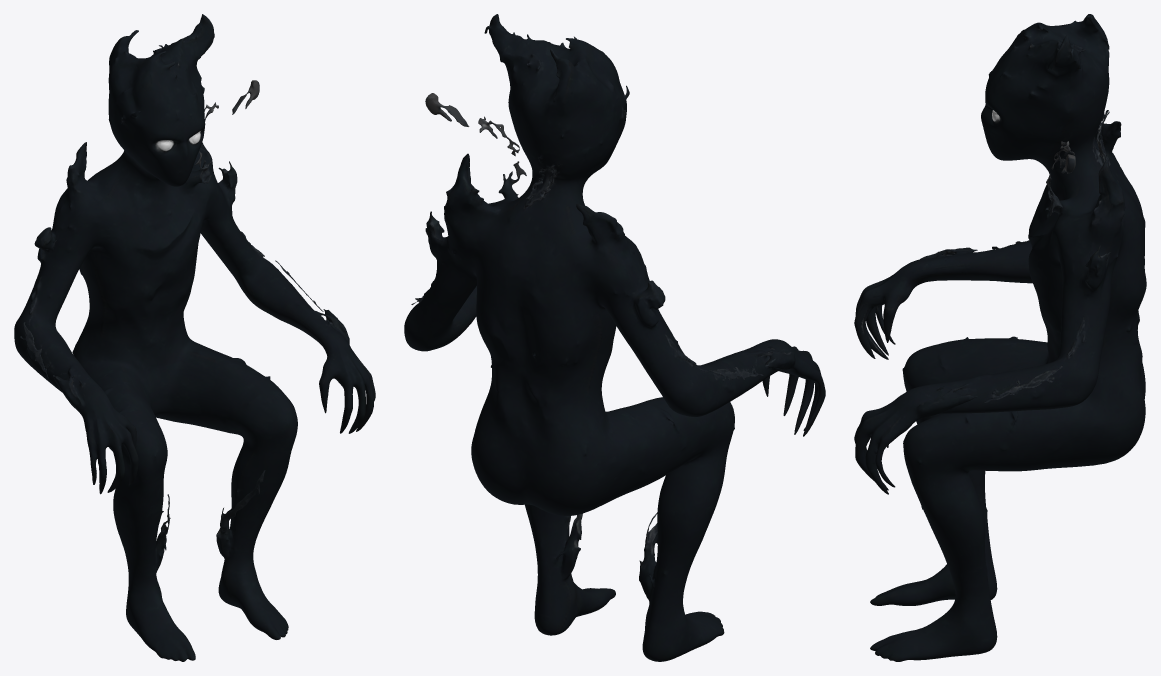
Rendered from Meshy_AI_The_Wraith_of_Hollow_Light_20261017_texture.obj.
3 renders of one model, left to right at view 1: azimuth 30°, elevation 25°; view 2: azimuth 150°, elevation 25°; view 3: azimuth 270°, elevation 25°, orthographic. The views are drawn at different scales.
Parts seen in each view (by area): view 1: Meshy_AI_The_Wraith_of_Hollow_Light_20261017_texture; view 2: Meshy_AI_The_Wraith_of_Hollow_Light_20261017_texture; view 3: Meshy_AI_The_Wraith_of_Hollow_Light_20261017_texture.
Boxes of the visible parts, box(x1,y1,x2,y2) form: Meshy_AI_The_Wraith_of_Hollow_Light_20261017_texture: box(14, 14, 375, 661); Meshy_AI_The_Wraith_of_Hollow_Light_20261017_texture: box(404, 14, 825, 661); Meshy_AI_The_Wraith_of_Hollow_Light_20261017_texture: box(854, 14, 1146, 661).
Size of the model in its own units: 0.9923 by 1.87 by 0.7959.
1 material, 1 textured.
